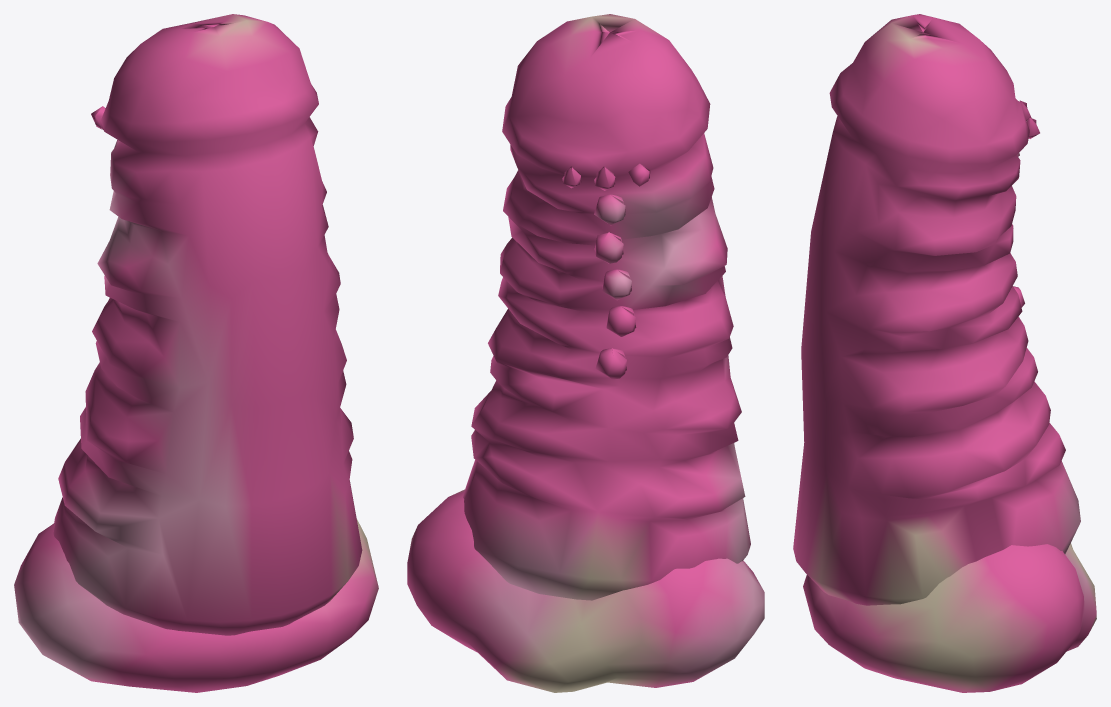
The model's file is chess-rook-lod1.glb.
3 views of the same model, side by side, from view 1: azimuth 30°, elevation 25°; view 2: azimuth 150°, elevation 25°; view 3: azimuth 270°, elevation 25° (orthographic). The views are drawn at different scales.
Parts seen in each view (by area): view 1: rook; view 2: rook; view 3: rook.
Part boxes in pixels (<box>): rook: <box>14,14,378,692</box>; rook: <box>407,14,764,692</box>; rook: <box>793,14,1096,692</box>.
Bounding box in the file's own units: 0.5431 × 1 × 0.451.
